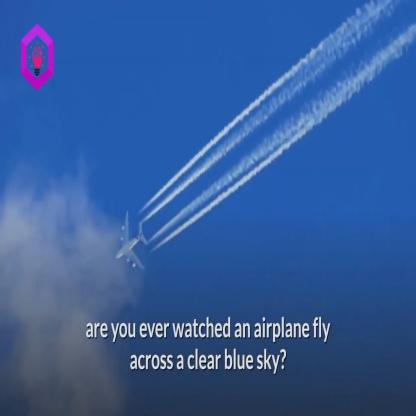plane: (109, 200, 157, 282)
